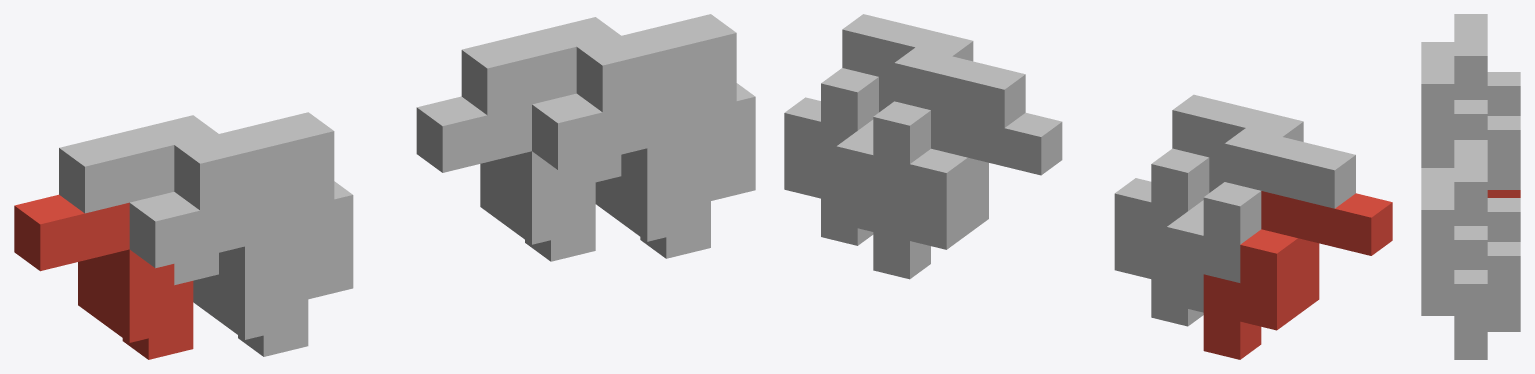
Rendered from tiling.obj.
3 views of the same model, side by side, from view 1: azimuth 30°, elevation 25°; view 2: azimuth 150°, elevation 25°; view 3: azimuth 270°, elevation 25° (orthographic). The views are drawn at different scales.
Visible parts, largest first — view 1: copy_1_domain_2, copy_1_domain_6, copy_1_domain_4, copy_1_domain_8, copy_1_domain_1, copy_1_domain_5, copy_1_domain_7, copy_1_domain_3; view 2: copy_1_domain_1, copy_1_domain_5, copy_1_domain_3, copy_1_domain_7, copy_1_domain_4, copy_1_domain_8, copy_1_domain_2, copy_1_domain_6; view 3: copy_1_domain_8, copy_1_domain_3, copy_1_domain_7, copy_1_domain_4, copy_1_domain_6, copy_1_domain_5, copy_1_domain_1.
Boxes of the visible parts, box(x1,y1,x2,y2) form: copy_1_domain_2: box(129, 189, 308, 356); copy_1_domain_6: box(532, 90, 710, 258); copy_1_domain_4: box(174, 112, 353, 299); copy_1_domain_8: box(576, 14, 755, 200); copy_1_domain_1: box(14, 194, 193, 359); copy_1_domain_5: box(416, 96, 595, 261); copy_1_domain_7: box(461, 17, 621, 186); copy_1_domain_3: box(59, 115, 218, 285); copy_1_domain_1: box(1203, 191, 1392, 359); copy_1_domain_5: box(873, 110, 1062, 279); copy_1_domain_3: box(1166, 128, 1355, 312); copy_1_domain_7: box(836, 47, 1025, 231); copy_1_domain_4: box(1114, 94, 1303, 278); copy_1_domain_8: box(784, 14, 973, 198); copy_1_domain_2: box(1151, 157, 1224, 326); copy_1_domain_6: box(821, 77, 894, 245); copy_1_domain_8: box(1421, 168, 1487, 343); copy_1_domain_3: box(1454, 14, 1520, 189); copy_1_domain_7: box(1454, 140, 1520, 315); copy_1_domain_4: box(1421, 42, 1487, 167); copy_1_domain_6: box(1421, 300, 1487, 359); copy_1_domain_5: box(1487, 316, 1520, 331); copy_1_domain_1: box(1487, 190, 1520, 197).
Bounding box in the file's own units: 16 × 5 × 3.
